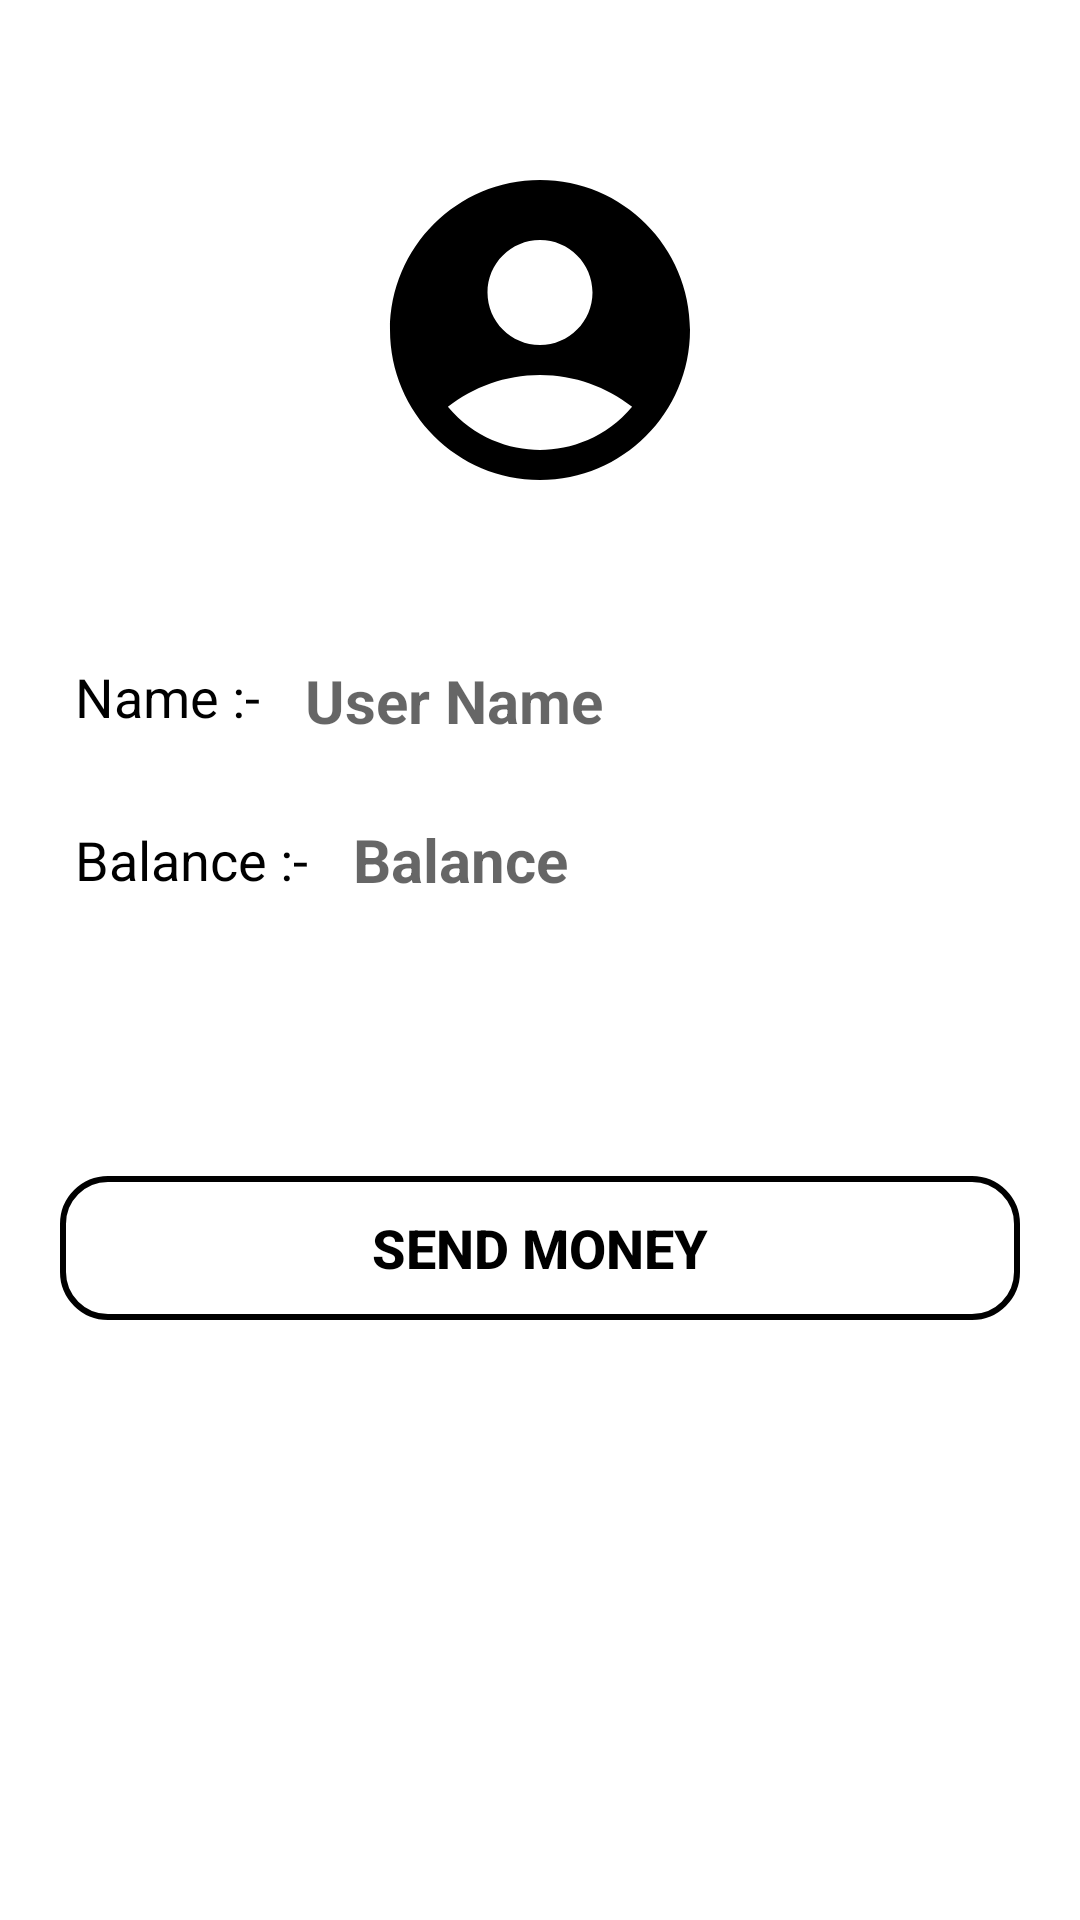

Where icons sit on this 1080 × 1920 app screen, as (x1, y1, x2, y2):
profile image: (390, 180, 690, 480)
